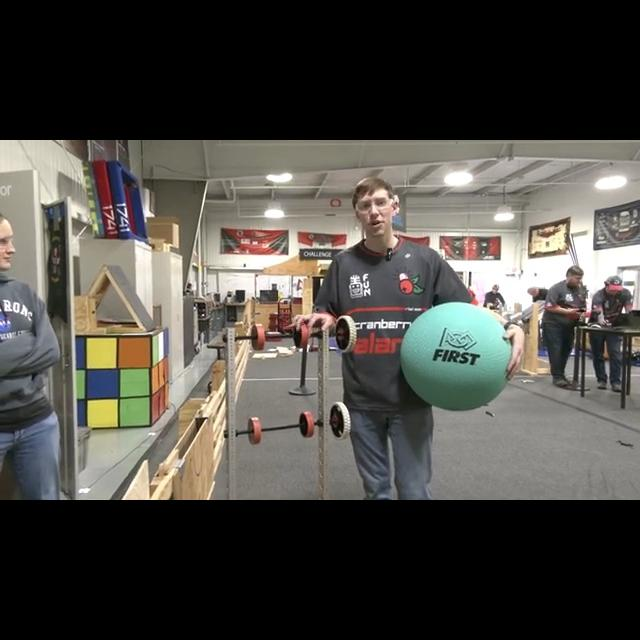ALGAE: (398, 300, 514, 412)
